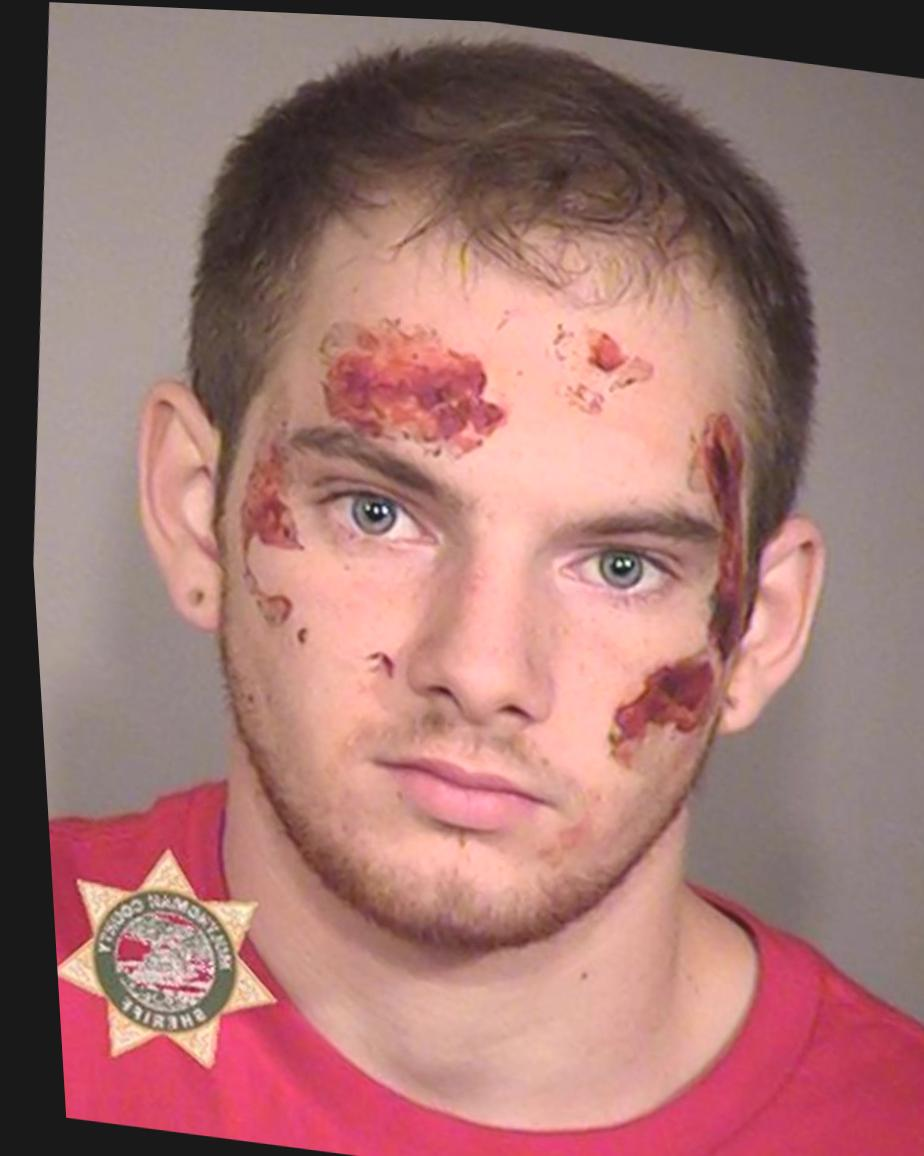Fire: (315, 315, 501, 454), (684, 405, 749, 655), (600, 648, 709, 761), (232, 438, 296, 624), (546, 318, 649, 408), (358, 648, 387, 677)
